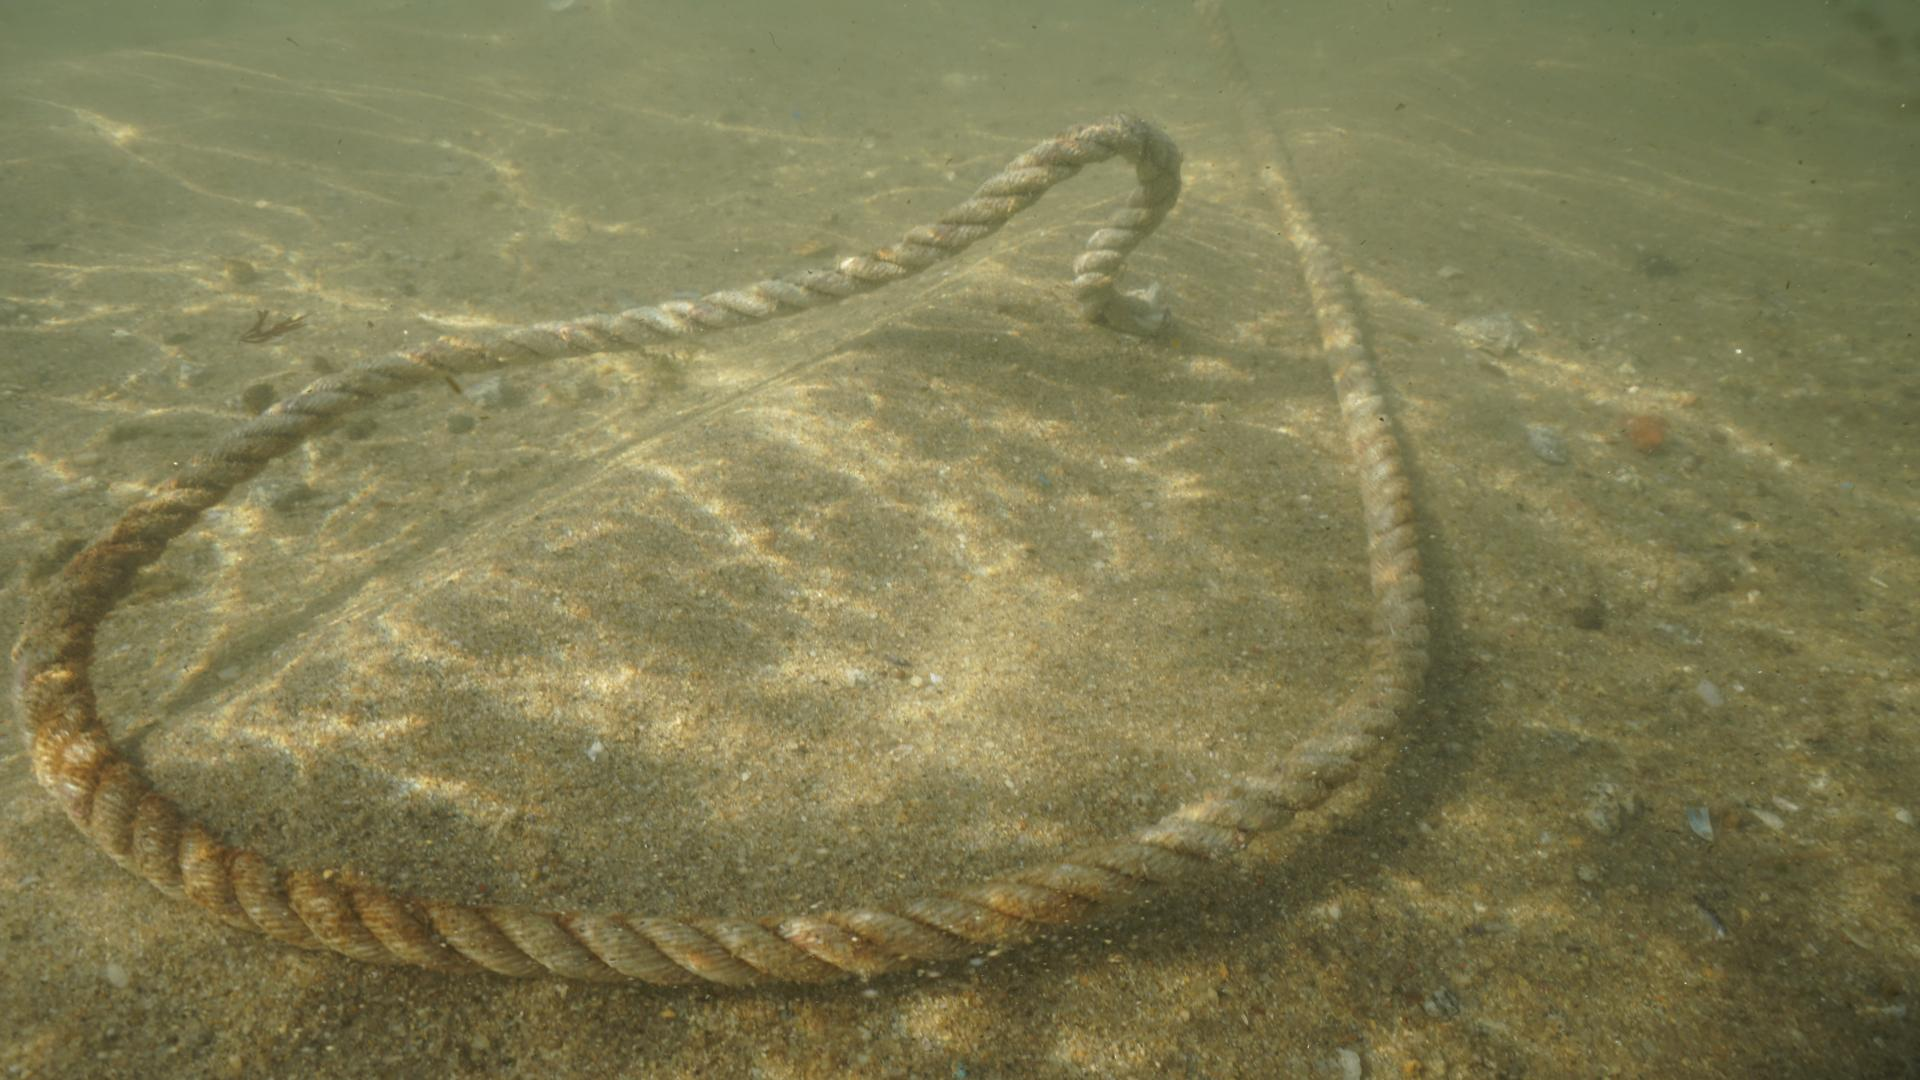rope: (0, 0, 1441, 992)
